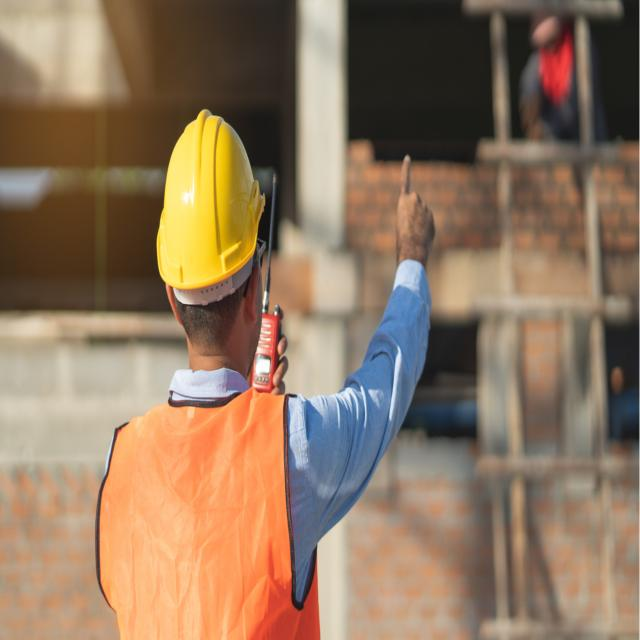helmet: (133, 104, 277, 315)
vest: (110, 361, 320, 640)
